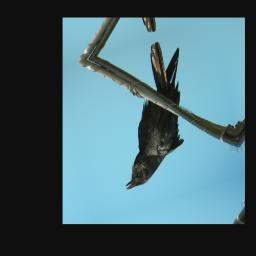Crow: (99, 34, 204, 192)
